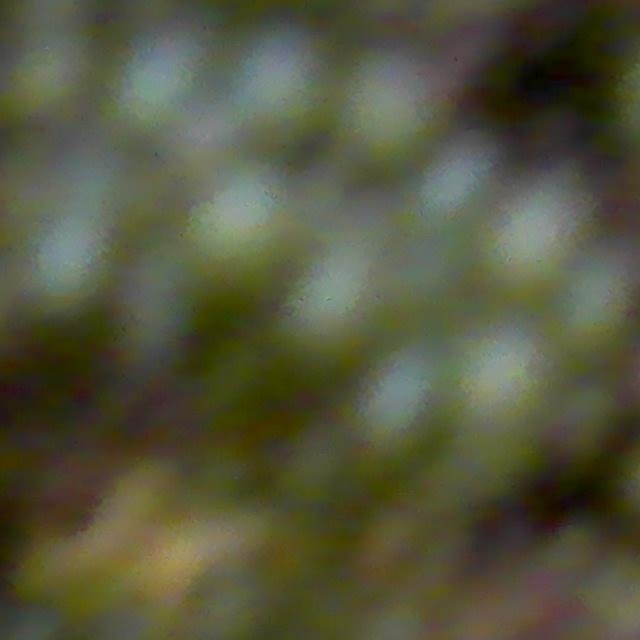SeaGrape: (430, 311, 559, 428), (327, 53, 439, 182), (101, 265, 209, 390), (480, 171, 584, 300), (218, 28, 322, 153), (272, 240, 372, 369), (184, 170, 285, 287), (351, 339, 450, 449), (113, 32, 205, 145), (22, 215, 110, 333), (412, 132, 505, 231), (553, 262, 632, 358), (7, 33, 93, 121), (274, 421, 357, 507), (548, 379, 620, 459), (188, 435, 263, 509)
